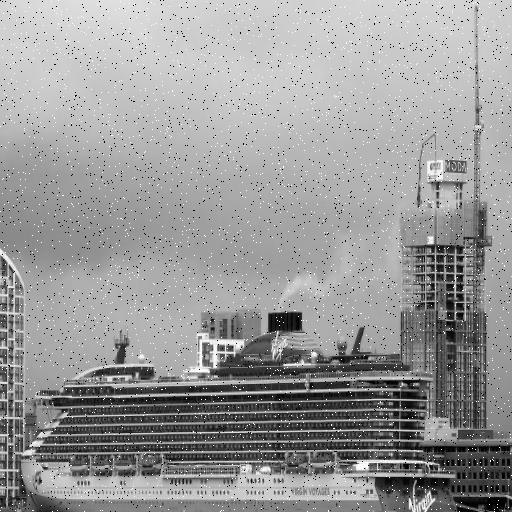cruises: (18, 318, 466, 512)
